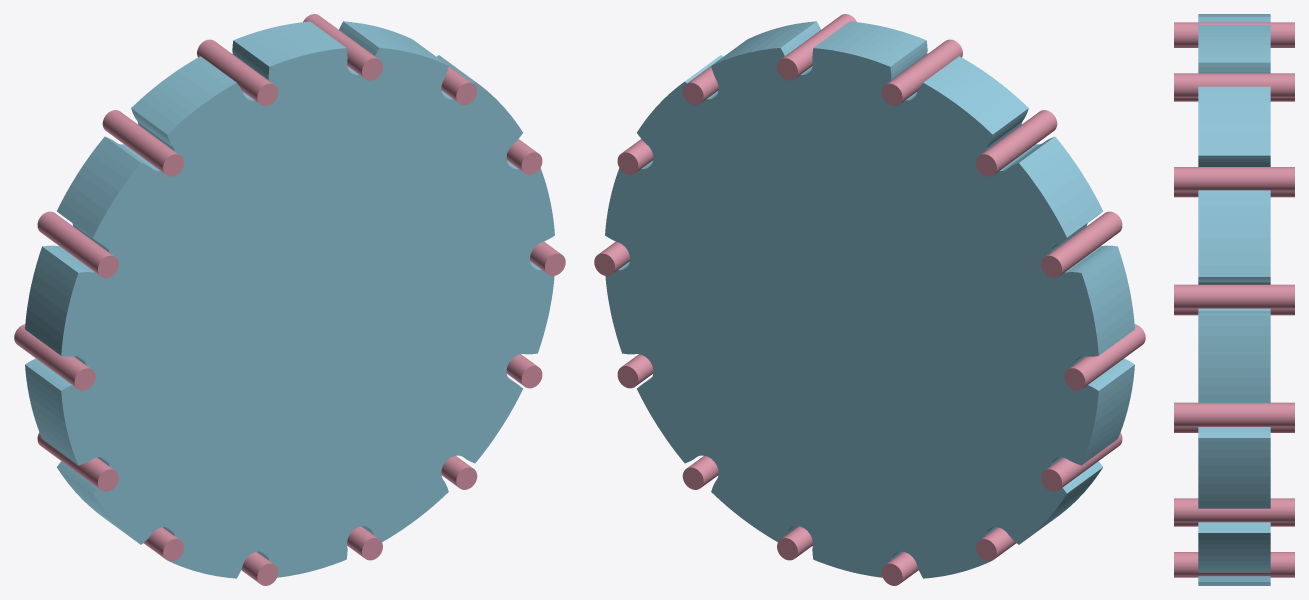
The model's file is roller_sprocket_demo.glb.
The picture shows the model from 3 angles, left to right: view 1: azimuth 30°, elevation 25°; view 2: azimuth 150°, elevation 25°; view 3: azimuth 270°, elevation 25°; orthographic projection.
Parts seen in each view (by area): view 1: roller_sprocket, pitch_circle_pins; view 2: roller_sprocket, pitch_circle_pins; view 3: roller_sprocket, pitch_circle_pins.
Part boxes in pixels (<box>): roller_sprocket: <box>25,21,554,578</box>; pitch_circle_pins: <box>14,14,565,585</box>; roller_sprocket: <box>605,21,1134,578</box>; pitch_circle_pins: <box>594,14,1145,585</box>; roller_sprocket: <box>1198,14,1270,585</box>; pitch_circle_pins: <box>1174,22,1294,577</box>.
Bounding box in the file's own units: 47.19 × 47.3 × 10.
